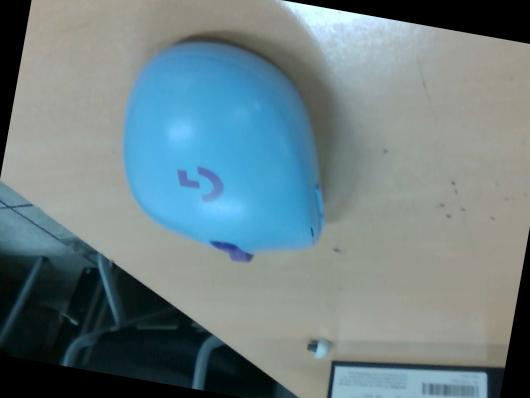mouse: (120, 37, 326, 261)
